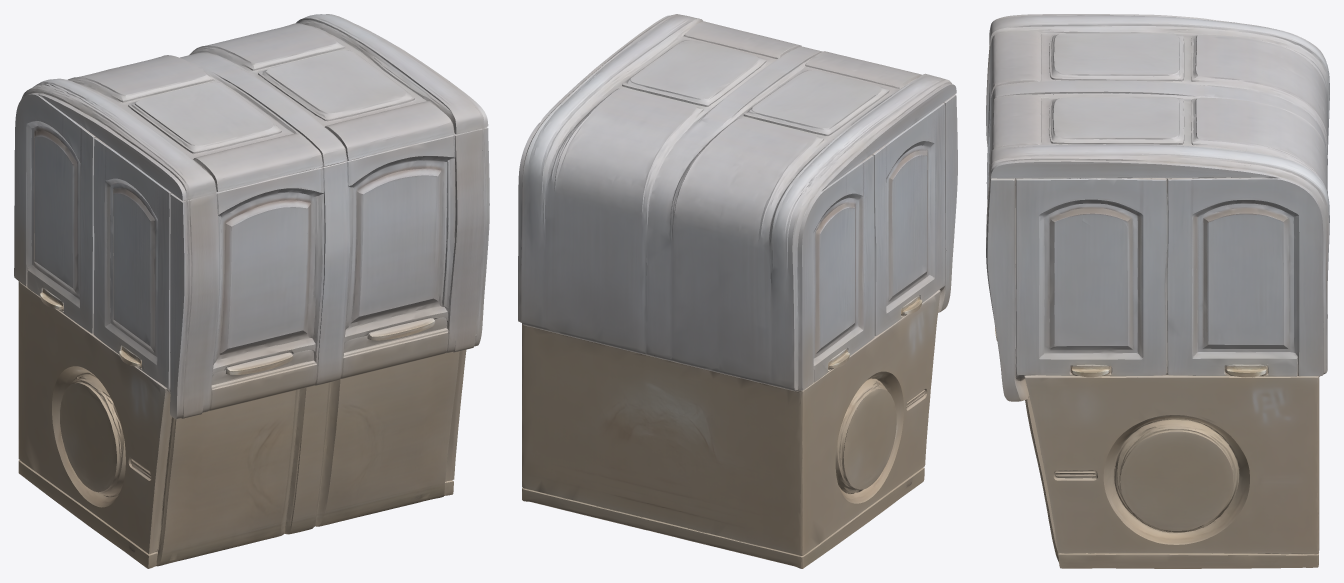
The model's file is upper-cabinet-set.glb.
The picture shows the model from 3 angles, left to right: view 1: azimuth 30°, elevation 25°; view 2: azimuth 150°, elevation 25°; view 3: azimuth 270°, elevation 25°; orthographic projection. The views are drawn at different scales.
Visible parts, largest first — view 1: model; view 2: model; view 3: model.
Part boxes in pixels (<box>): model: <box>14,14,489,568</box>; model: <box>518,14,957,568</box>; model: <box>986,14,1329,568</box>.
Bounding box in the file's own units: 1.54 × 1.89 × 1.43.
Materials: 1 (1 with a texture image).
